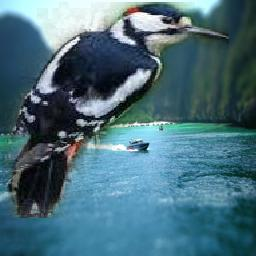Woodpecker: (3, 2, 230, 218)
